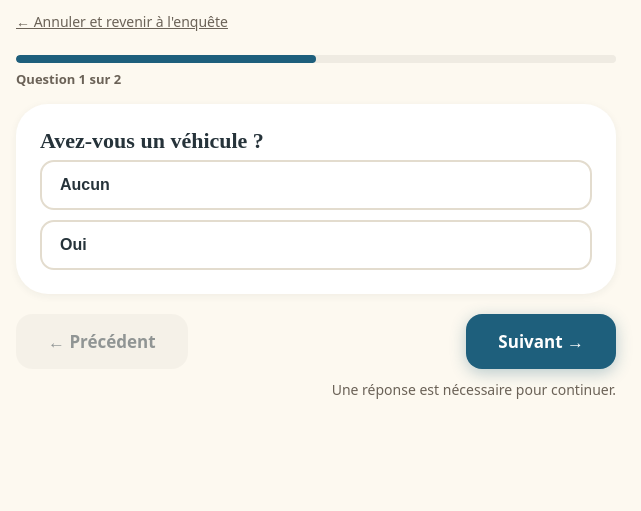
Test case: Questionnaire v2 › pas plus de cases cochées que de véhicules : les autres cases se désactivent
Expected: the heading "Avez-vous un véhicule ?" is shown, [39,127,264,153]
Click the radio button labelled "Oui" at x=73, y=244, box [40,220,592,270]
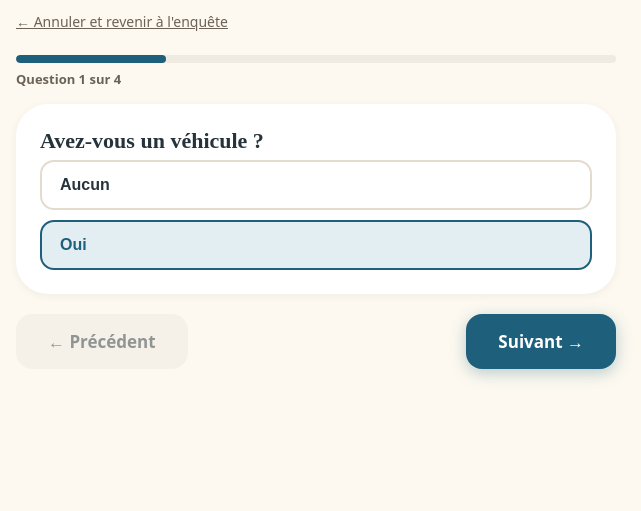
Click the button "Suivant →" at x=541, y=342, box [466,314,616,369]
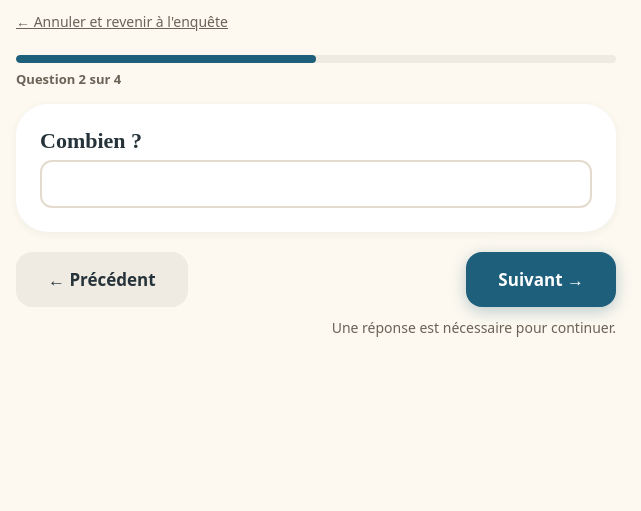
Type "2" into the number field at x=316, y=184, box [40,160,592,208]
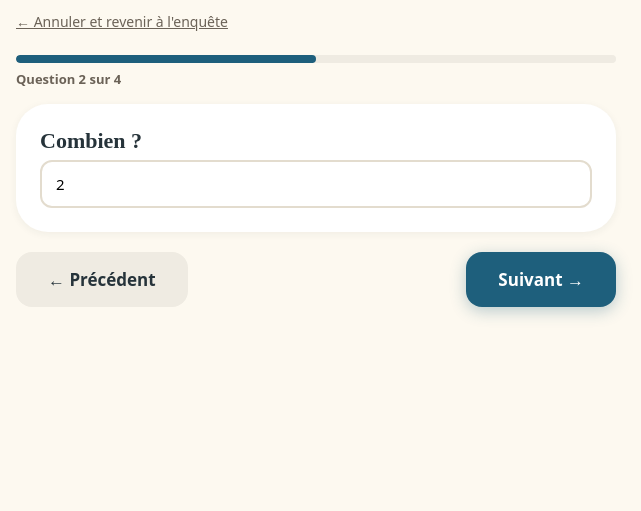
Click the button "Suivant →" at x=541, y=280, box [466,252,616,307]
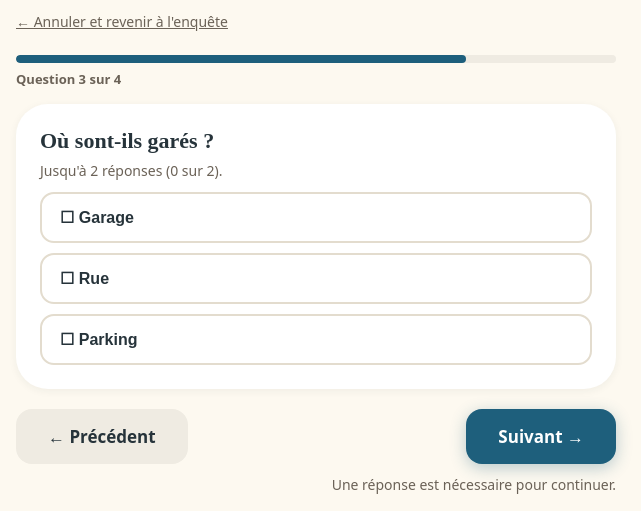
Click the button "☐ Garage" at x=106, y=218, box [40,192,592,243]
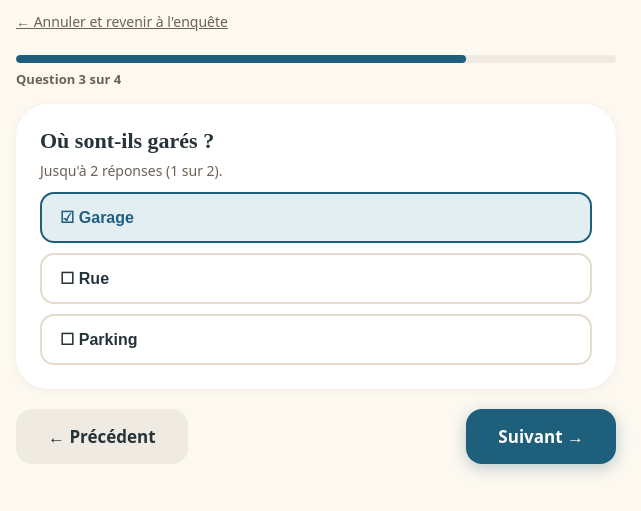
Click the button "☐ Rue" at x=94, y=279, box [40,253,592,304]
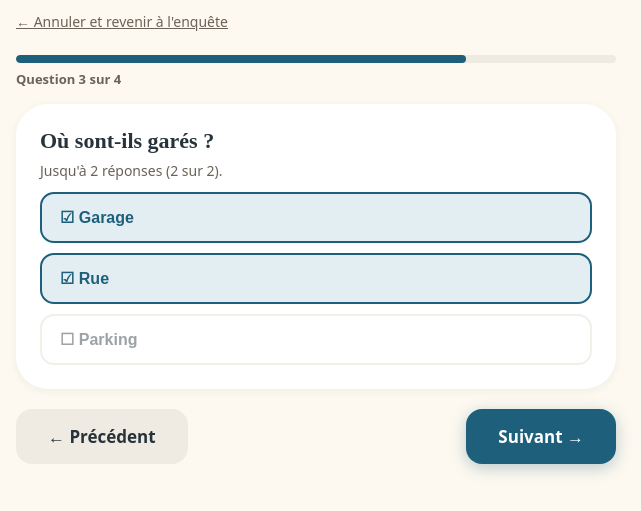
Expected: the button "☑ Garage" is enabled, [40,192,592,243]
Expected: the text "Jusqu'à 2 réponses (2 sur 2)." is shown, [40,161,223,180]
Expected: the button "☐ Parking" is disabled, [40,314,592,365]
